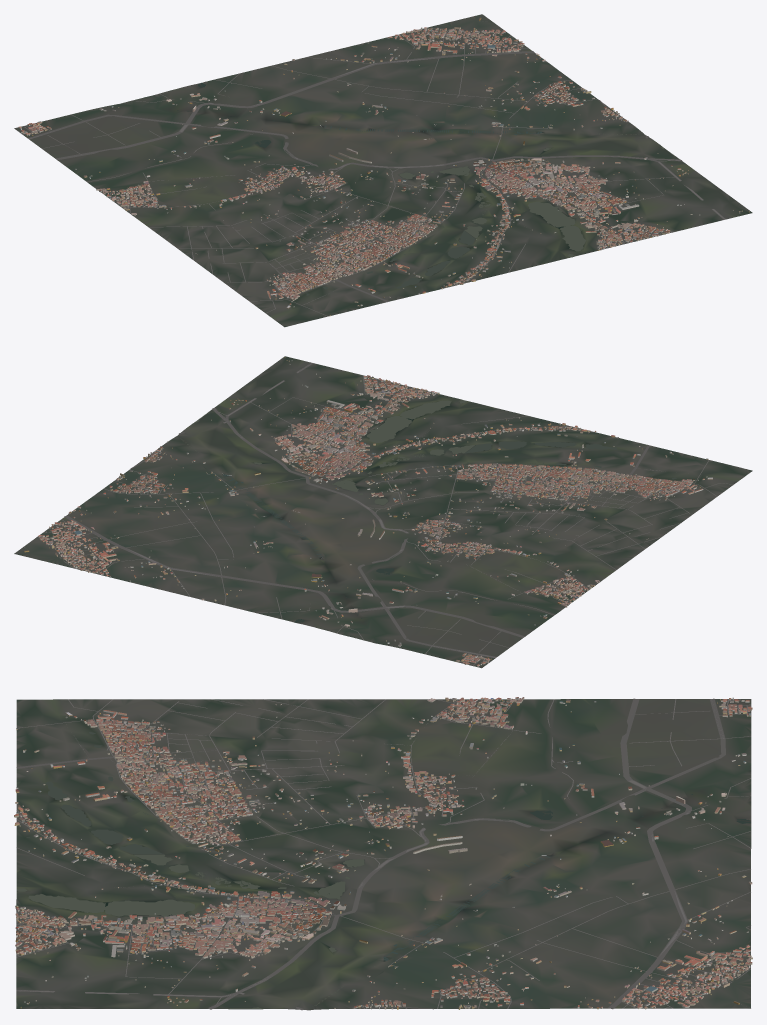
3 views of the same model, one above another, from view 1: azimuth 30°, elevation 25°; view 2: azimuth 150°, elevation 25°; view 3: azimuth 270°, elevation 25° (orthographic). The views are drawn at different scales.
Parts seen in each view (by area): view 1: ground, buildings, roads, water; view 2: ground, buildings, roads, water; view 3: ground, buildings, roads, water.
Part boxes in pixels (x1=…): ground: x1=14, y1=14, x2=752, y2=327; buildings: x1=18, y1=17, x2=749, y2=316; roads: x1=18, y1=21, x2=725, y2=316; water: x1=177, y1=82, x2=673, y2=295; ground: x1=14, y1=356, x2=752, y2=668; buildings: x1=24, y1=357, x2=712, y2=666; roads: x1=23, y1=362, x2=733, y2=665; water: x1=180, y1=400, x2=676, y2=622; ground: x1=16, y1=699, x2=751, y2=1010; buildings: x1=14, y1=697, x2=752, y2=1009; roads: x1=16, y1=698, x2=750, y2=1010; water: x1=16, y1=732, x2=750, y2=1008.
Bounding box in the file's own units: 2814 × 28.06 × 2820.
